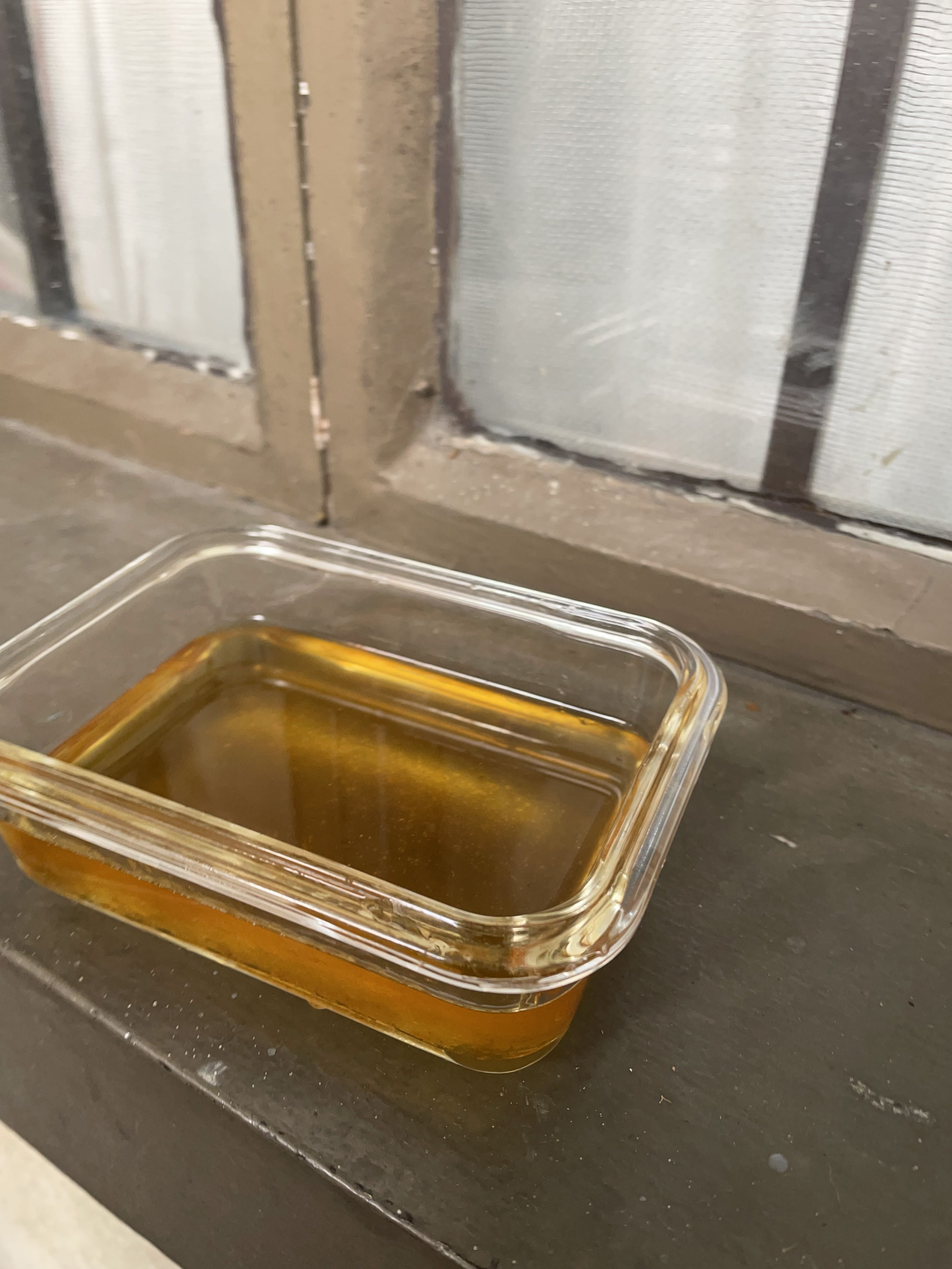reusable: (44, 620, 652, 919)
